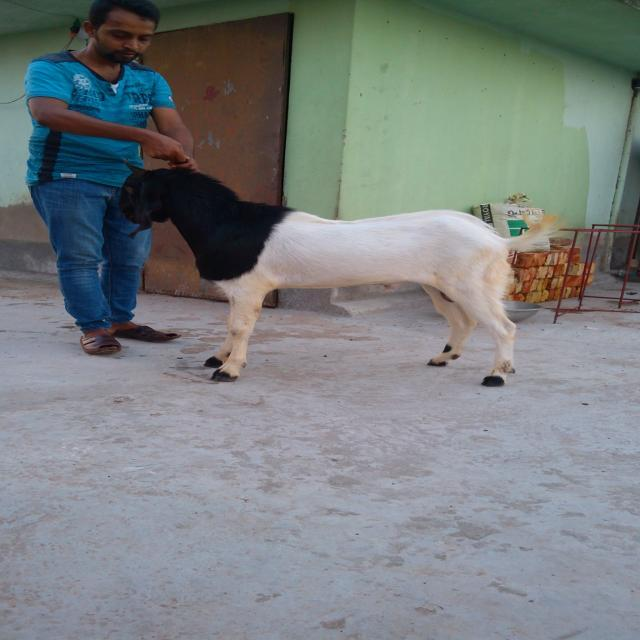Goat: (115, 158, 566, 388)
